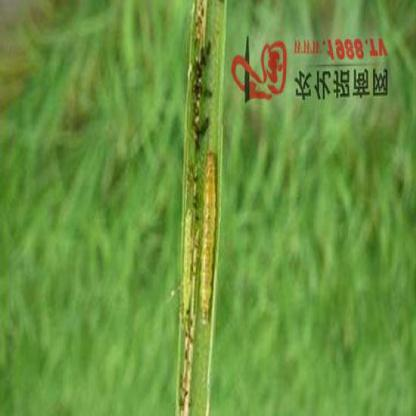leaf-folder: (171, 139, 231, 331)
